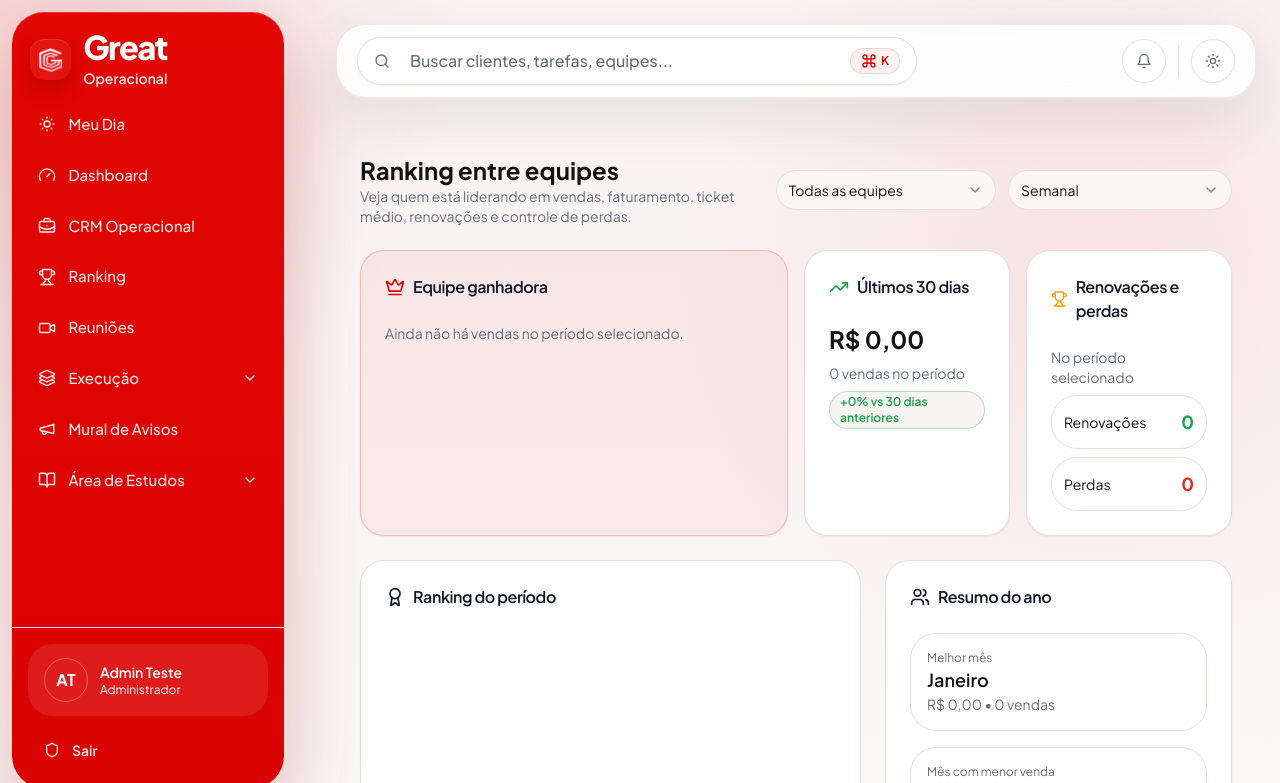
Test: Inteligência – Ranking entre equipes › trocar período para Anual atualiza o label no select
Click the dropdown labelled "Semanal". click: click(1120, 190)
box: top-left (1008, 170), bottom-right (1232, 210)
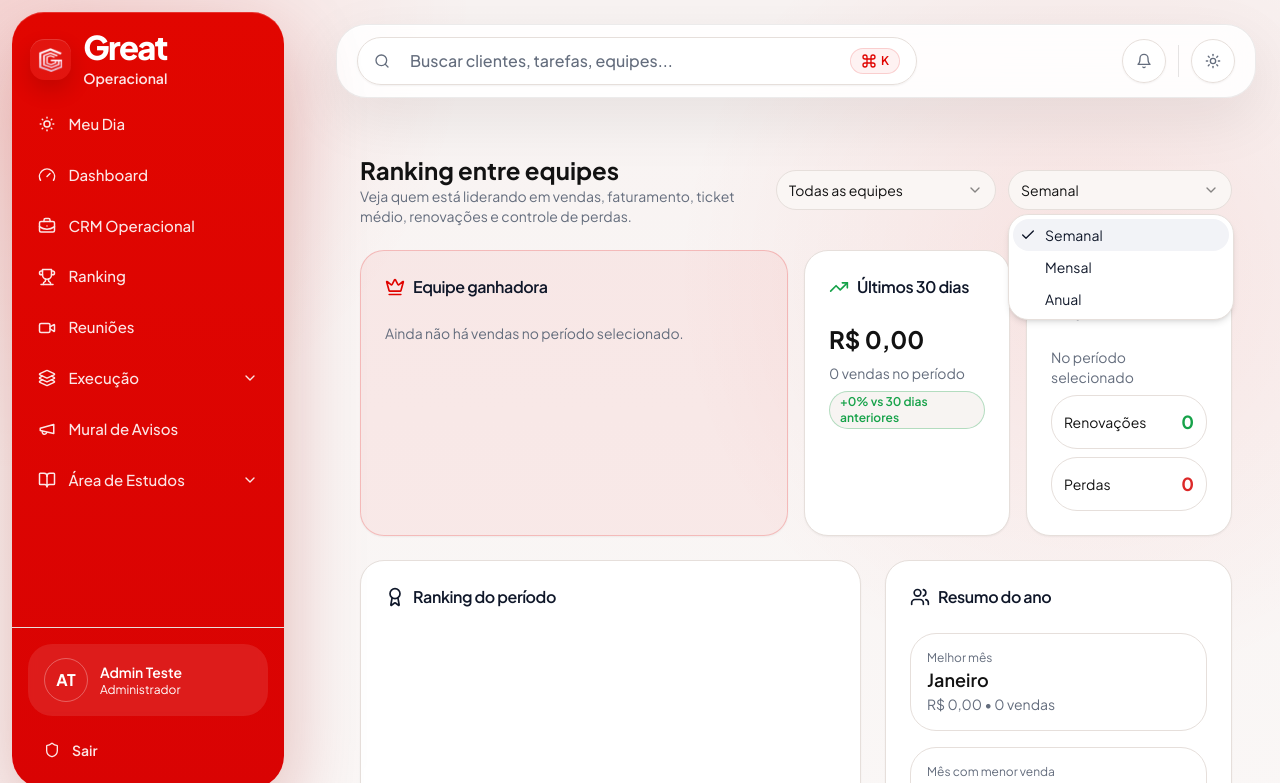
Click the option "Anual". click: click(1063, 299)
box: top-left (1045, 290), bottom-right (1081, 308)
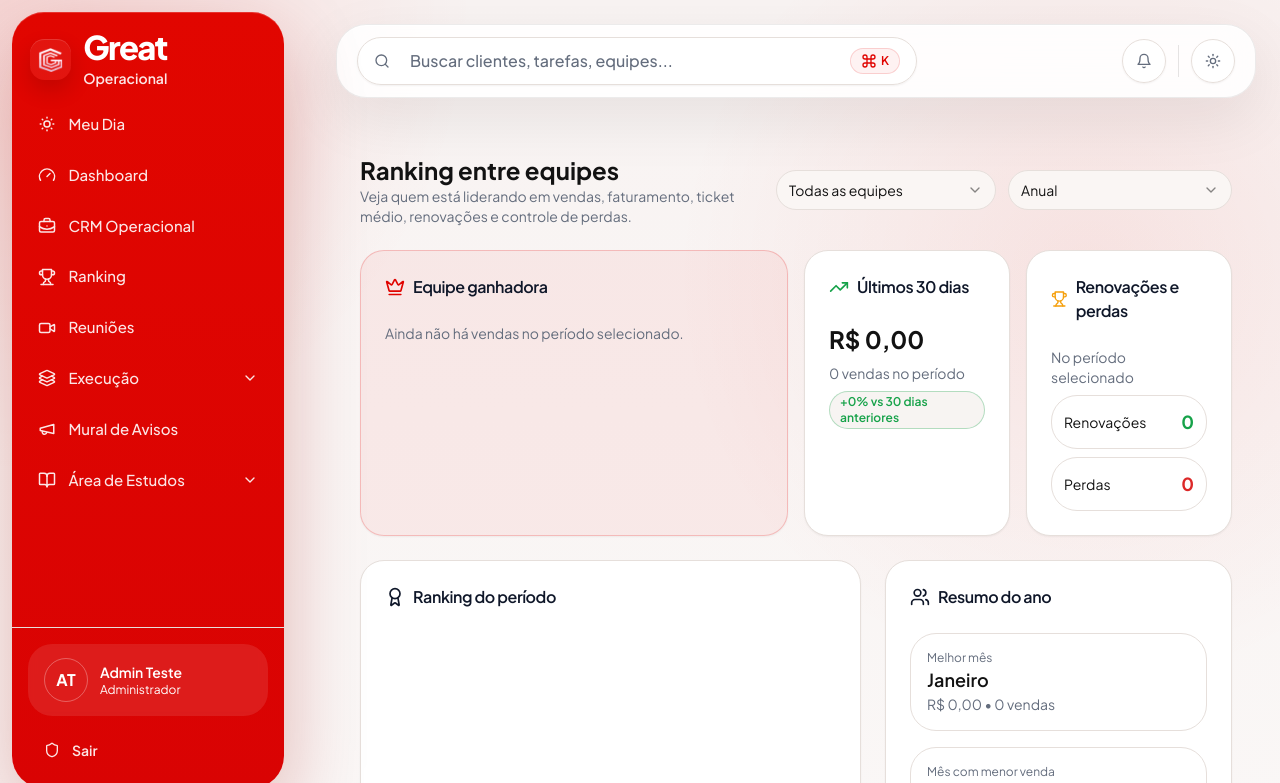
Expected: the dropdown "Anual" is shown, top-left (1008, 170), bottom-right (1232, 210)
